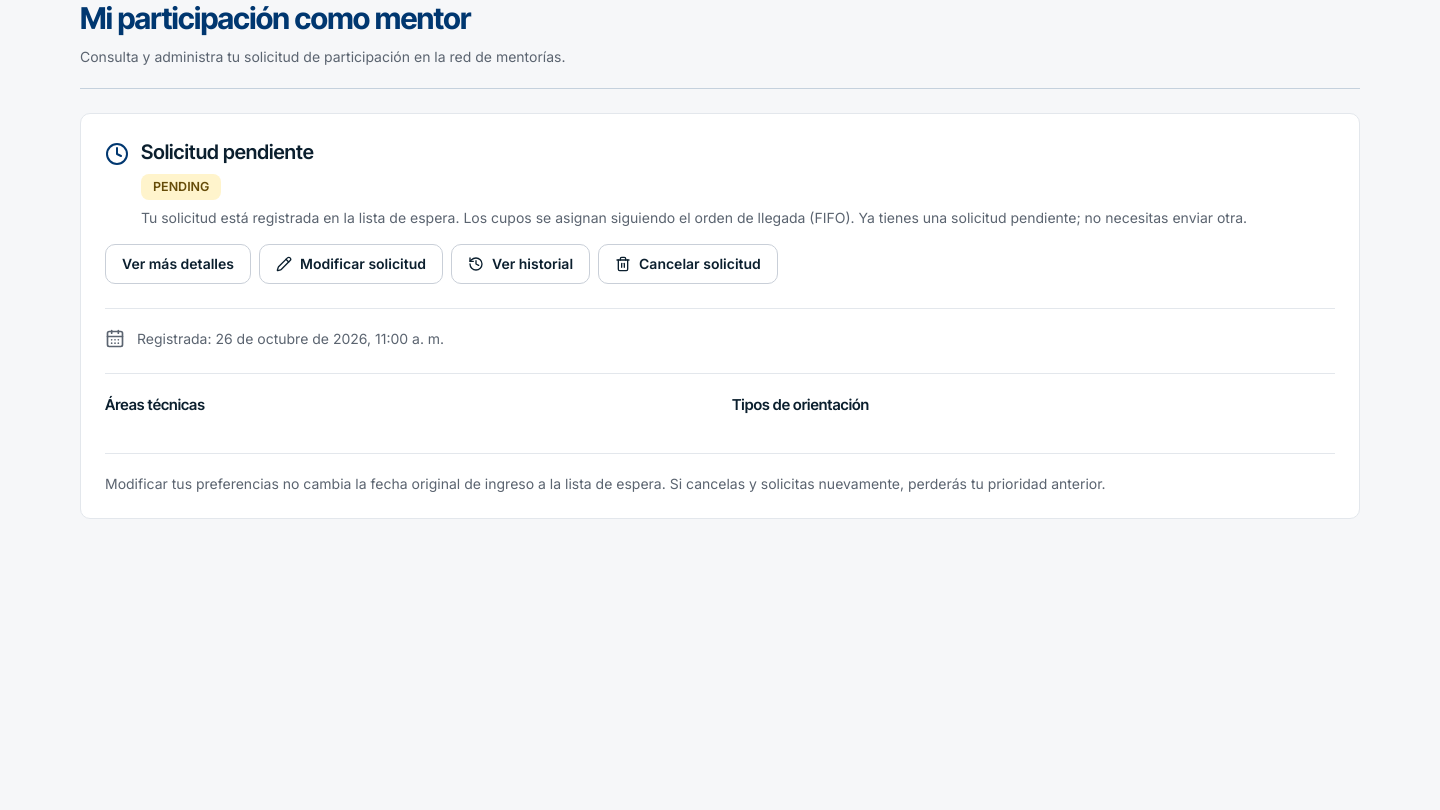
Test: Cancelación persistida › conserva la solicitud si falla la cancelación
Click the button "Cancelar solicitud" at coordinates (688, 264), box [598, 244, 778, 284]
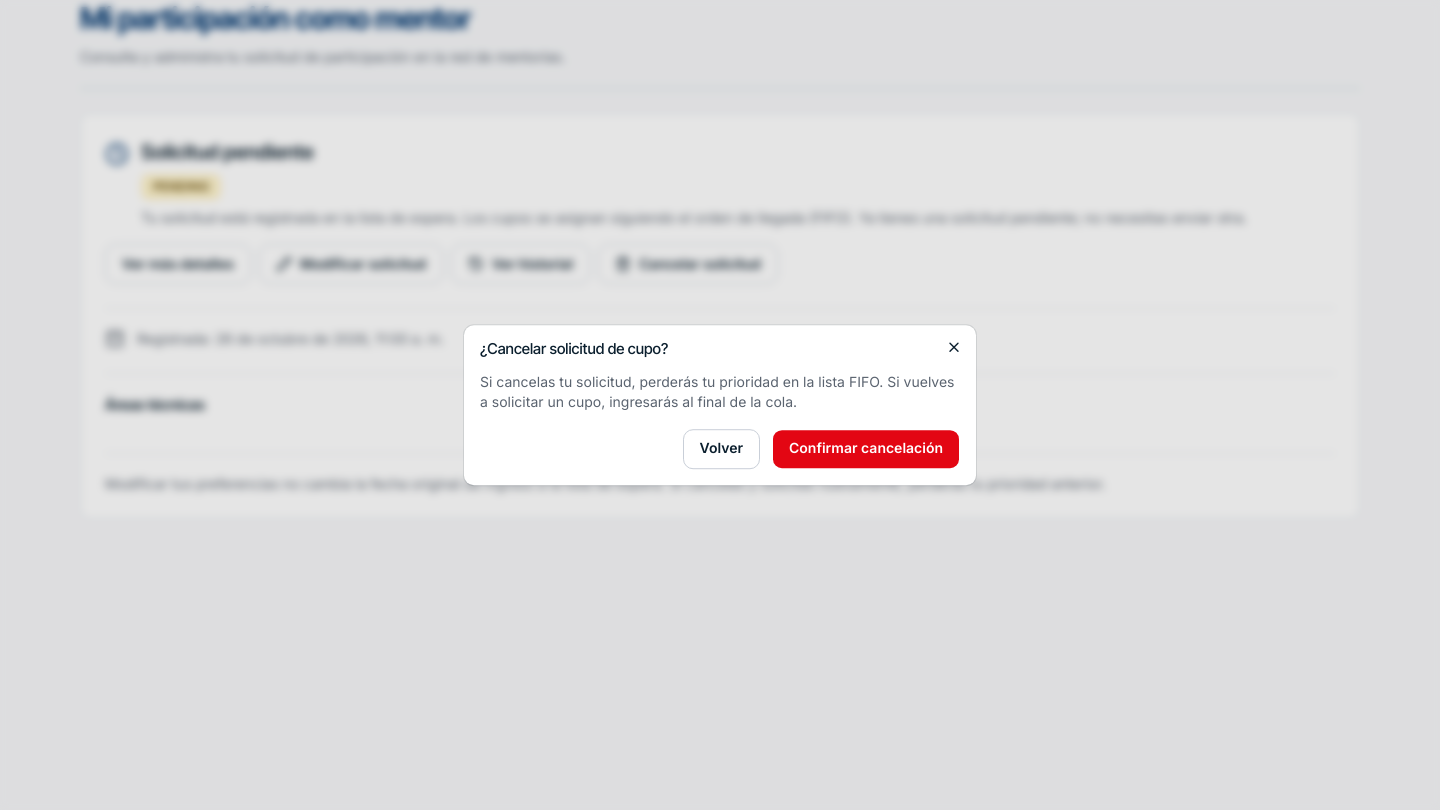
Click the button "Confirmar cancelación" at coordinates (866, 449), box [772, 429, 960, 469]
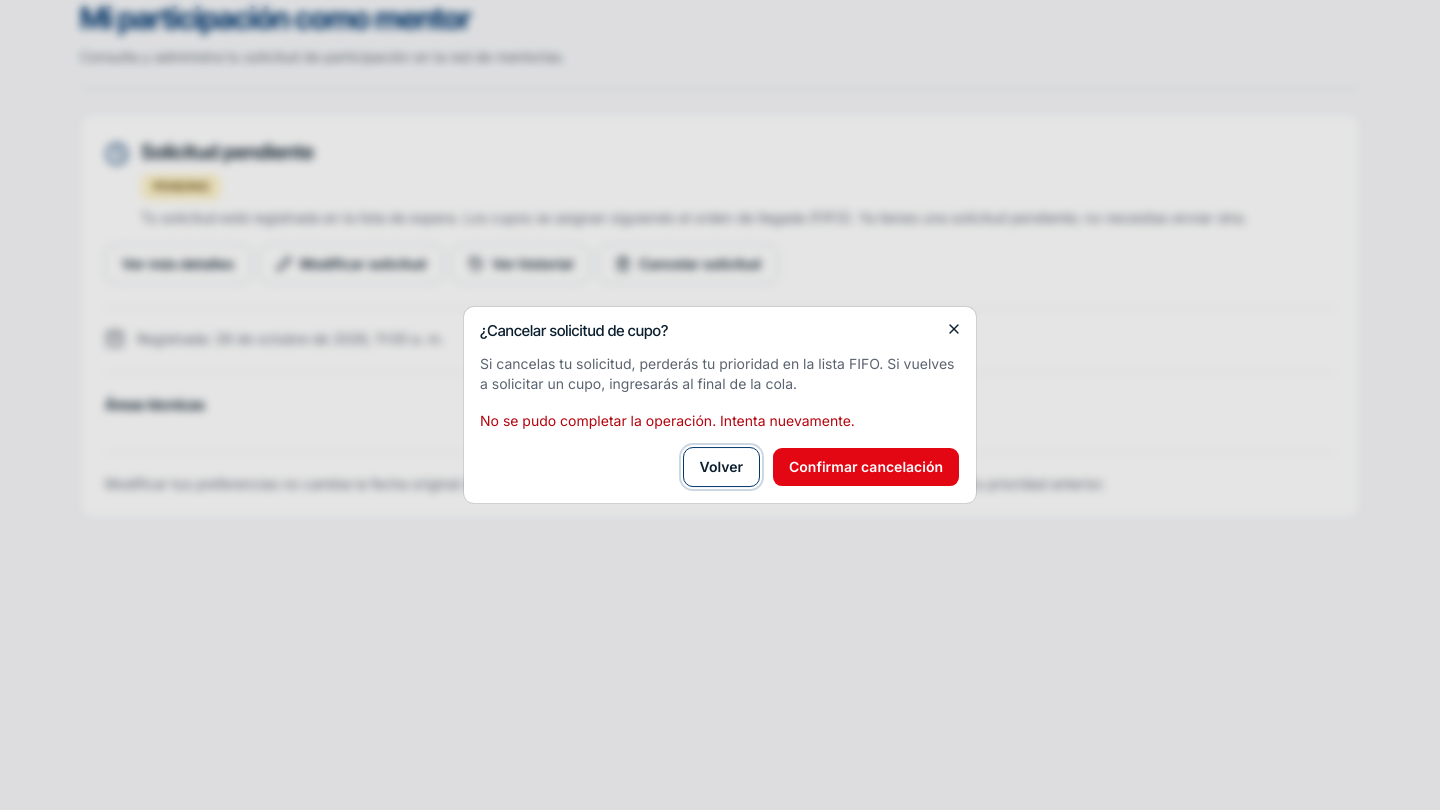
Expected: the heading "Solicitud pendiente" is shown, [141, 140, 314, 164]
Expected: the message shows "No se pudo completar", [480, 412, 855, 429]
